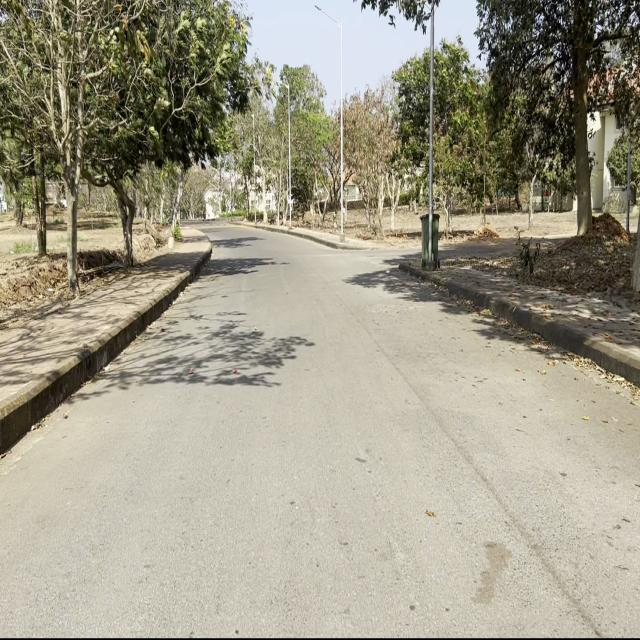Road: (1, 221, 636, 634)
